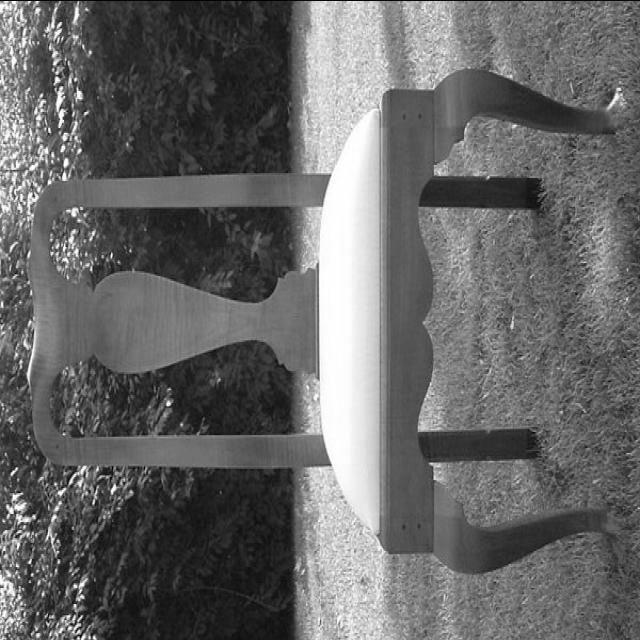chair: (25, 63, 630, 578)
